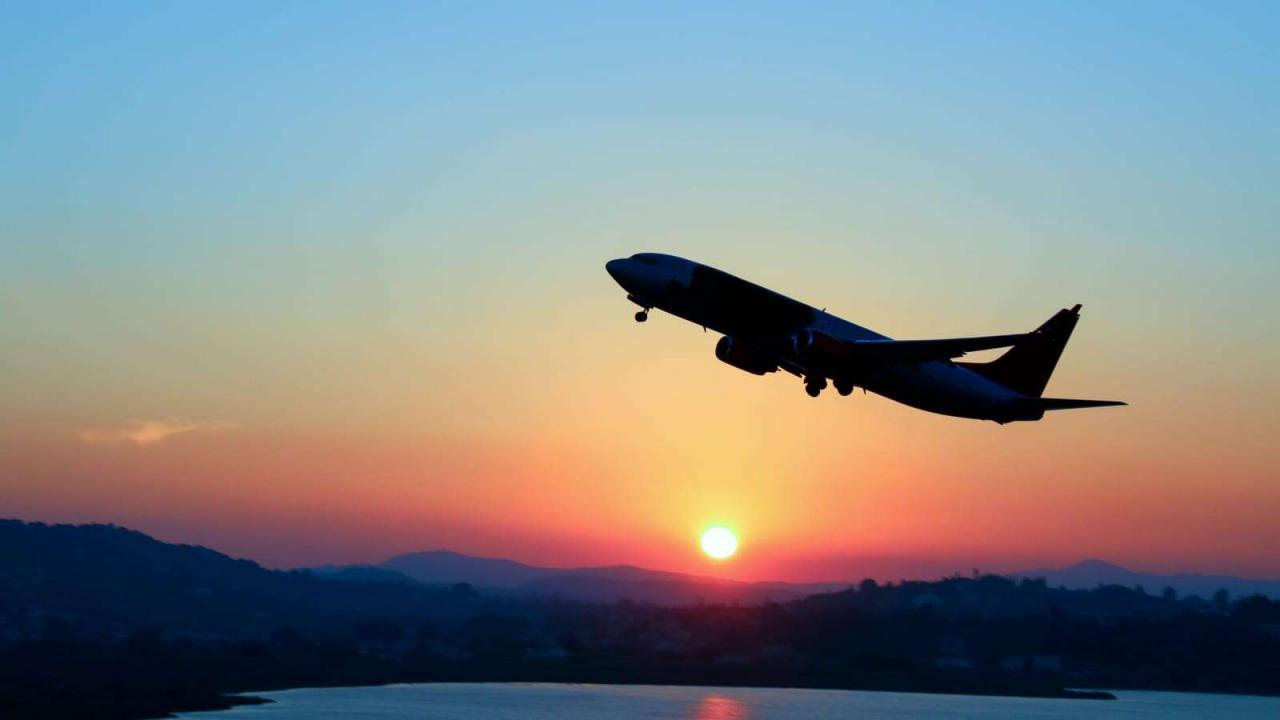Airplane: (597, 237, 1140, 448)
